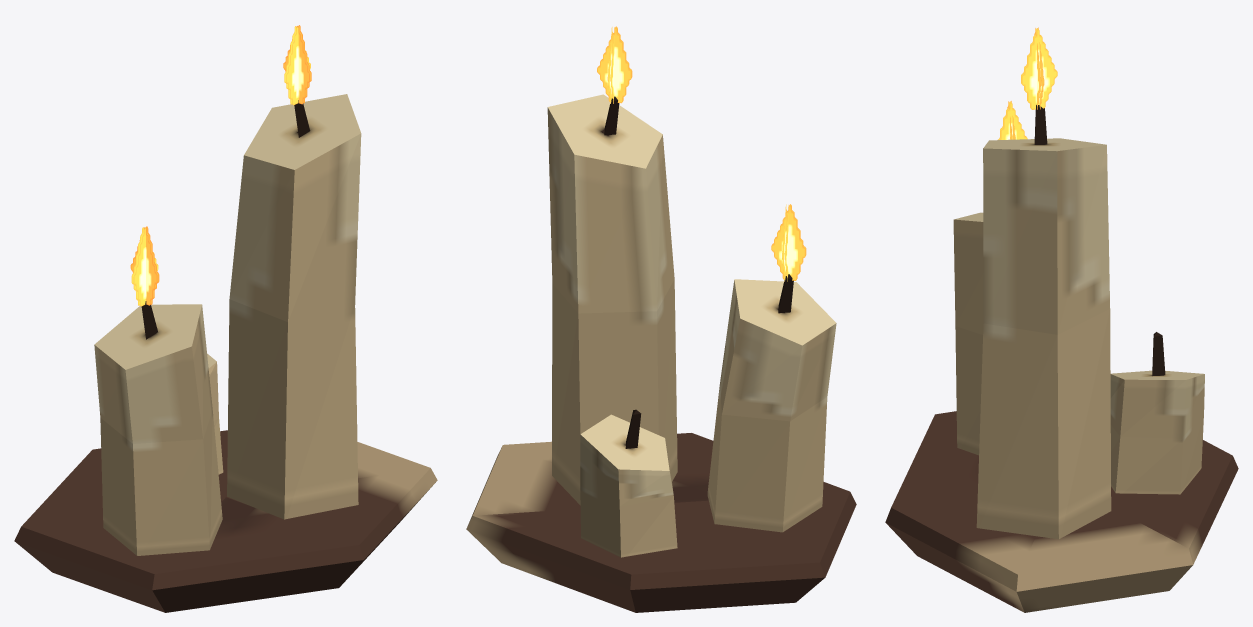
Rendered from SM_PR05_CandlesDish.fbx.
The picture shows the model from 3 angles, left to right: view 1: azimuth 30°, elevation 25°; view 2: azimuth 150°, elevation 25°; view 3: azimuth 270°, elevation 25°; orthographic projection. The views are drawn at different scales.
Visible parts, largest first — view 1: PR05_Candles, PR05_Flames; view 2: PR05_Candles, PR05_Flames; view 3: PR05_Candles, PR05_Flames.
Part boxes in pixels (bbox=[...]): PR05_Candles: bbox=[14, 94, 437, 612]; PR05_Flames: bbox=[130, 25, 311, 306]; PR05_Candles: bbox=[466, 94, 856, 612]; PR05_Flames: bbox=[597, 26, 806, 281]; PR05_Candles: bbox=[885, 105, 1238, 612]; PR05_Flames: bbox=[998, 27, 1057, 139].
Size of the model in its own units: 0.2364 by 0.309 by 0.1832.
